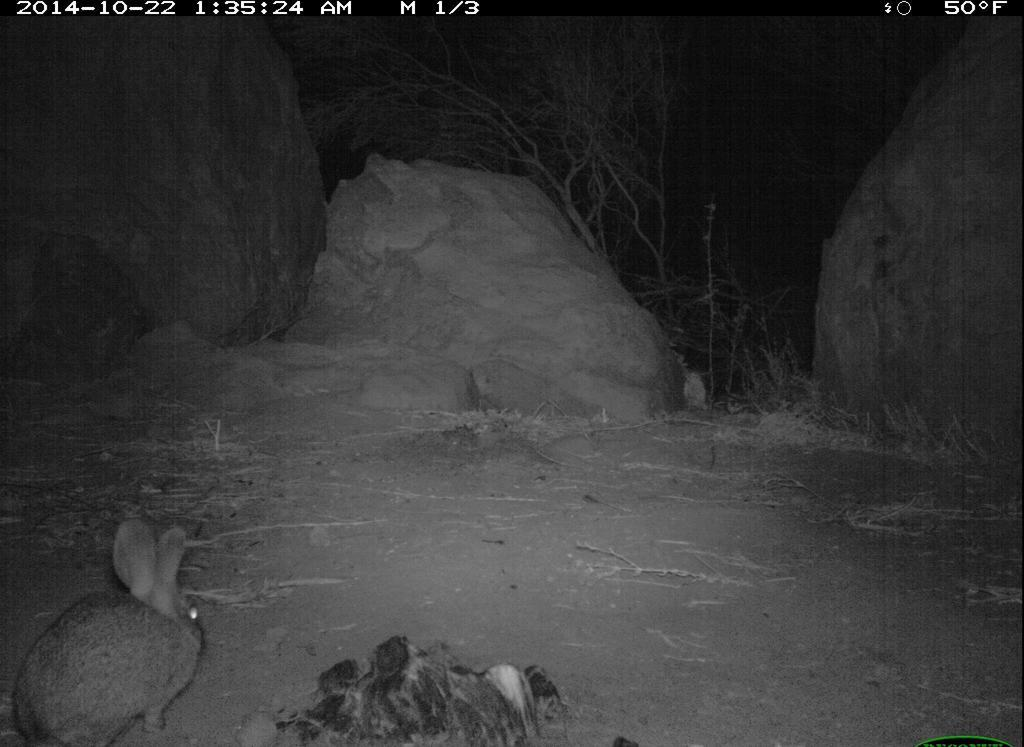rabbit: (7, 500, 246, 747)
